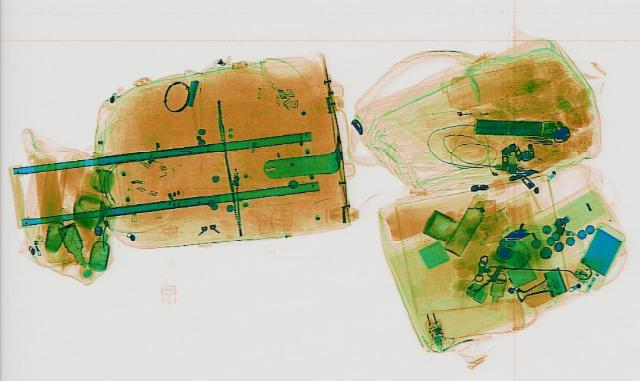Scissors: (463, 264, 513, 294)
